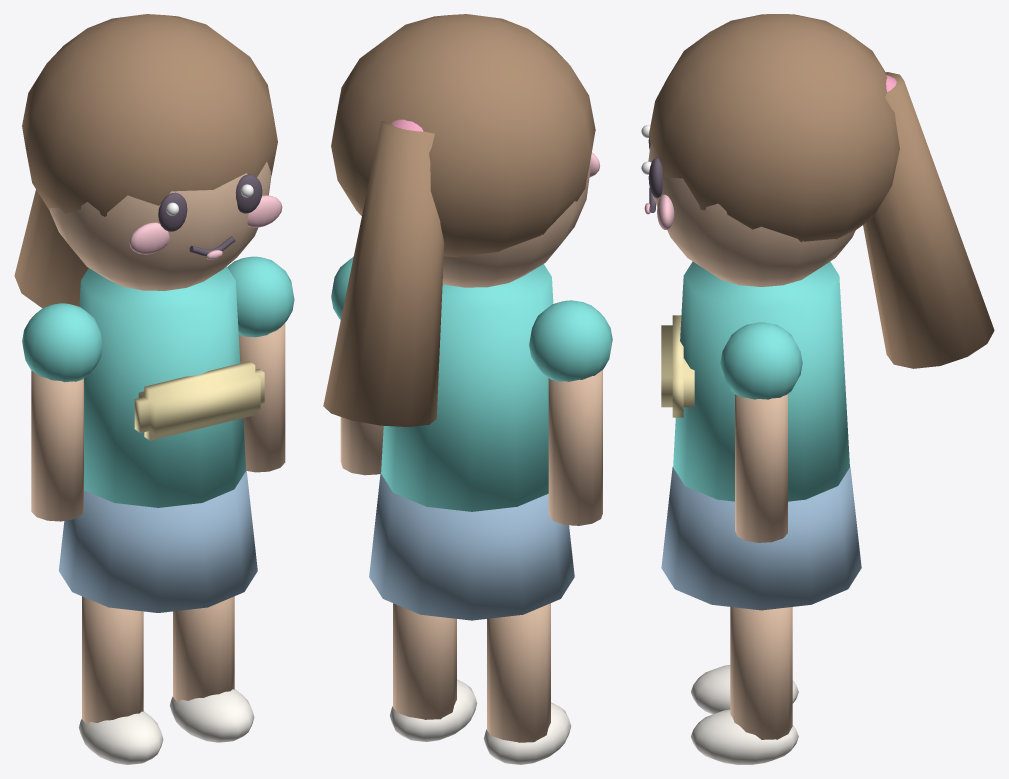
Rendered from Char_FutebolPraia.fbx.
3 renders of one model, left to right at view 1: azimuth 30°, elevation 25°; view 2: azimuth 150°, elevation 25°; view 3: azimuth 270°, elevation 25°, orthographic. The views are drawn at different scales.
Visible parts, largest first — view 1: Char_FutebolPraia; view 2: Char_FutebolPraia; view 3: Char_FutebolPraia.
Boxes of the visible parts, <box> form: Char_FutebolPraia: <box>14,14,294,764</box>; Char_FutebolPraia: <box>323,14,612,764</box>; Char_FutebolPraia: <box>641,14,994,764</box>.
Bounding box in the file's own units: 0.5661 × 1.47 × 0.6603.
